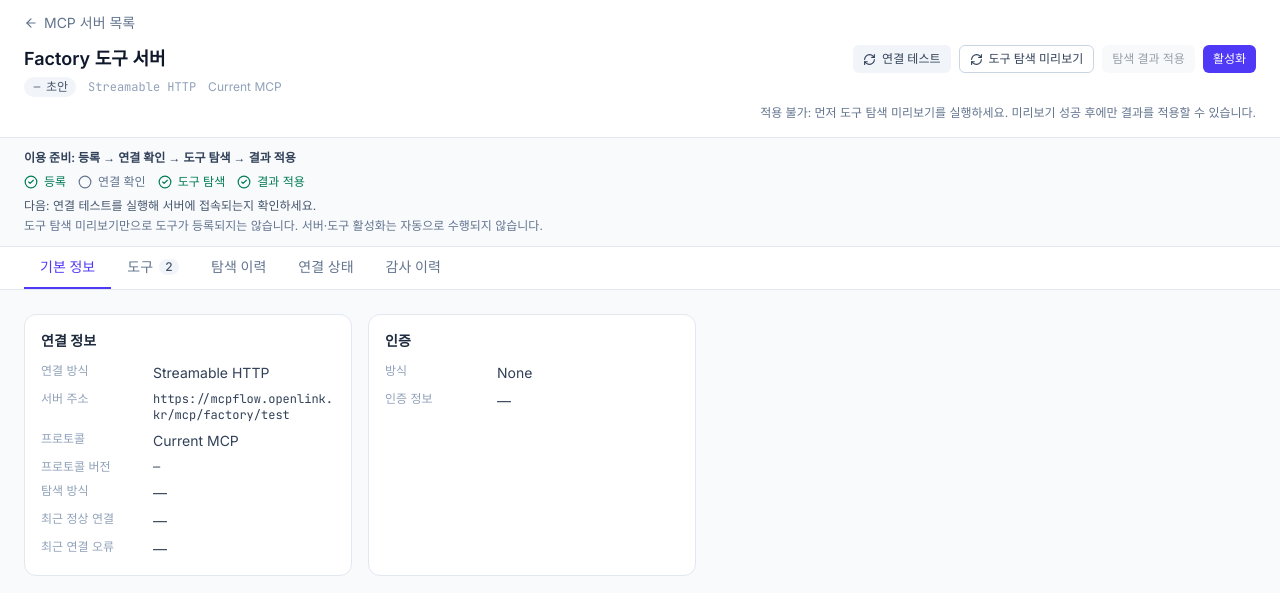
Test case: Factory Discovery contract evidence and apply fail-closed › includes Factory reconciliation status in saved Discovery history
Expected: the heading "Factory 도구 서버" is shown, [24,48,166,69]
Click the button "탐색 이력" at (239, 268), box [195,247,282,289]
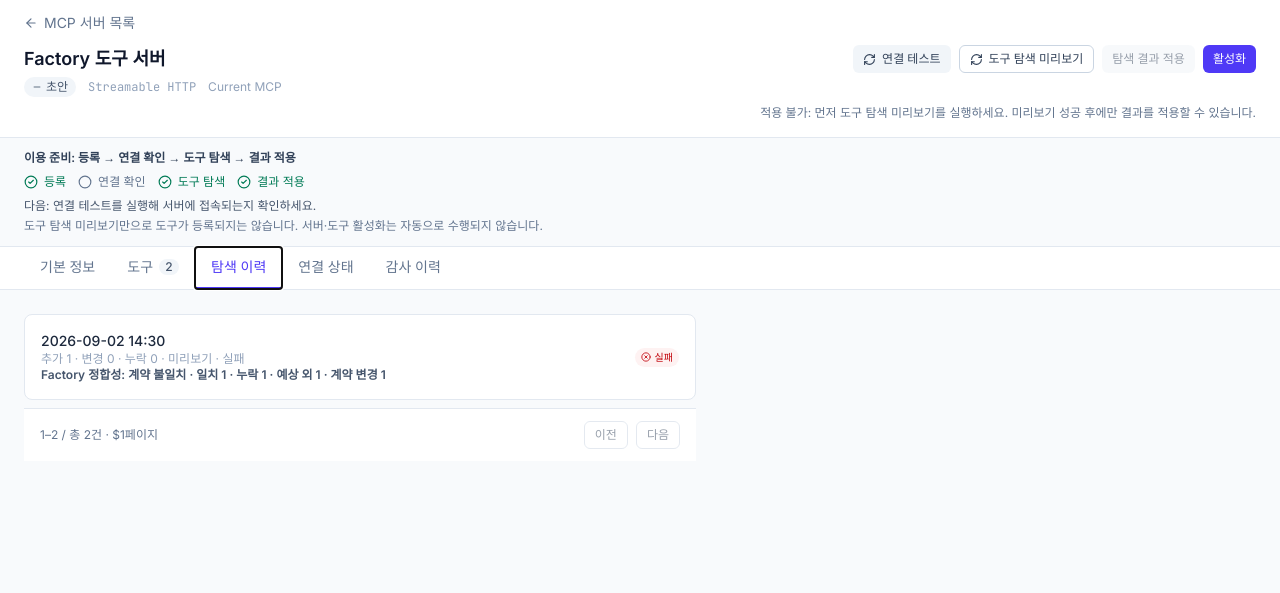
Expected: the text "Factory 정합성: 계약 불일치 · 일치 1 · 누락 1 · 예상 외 1 · 계약 변경 1" is shown, [41,367,386,383]
